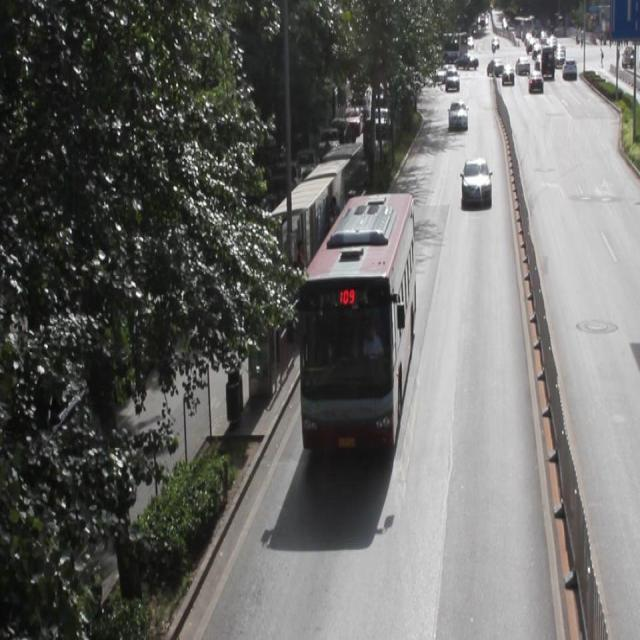car: (460, 155, 490, 205), (447, 98, 466, 130)
van: (298, 192, 412, 453)
